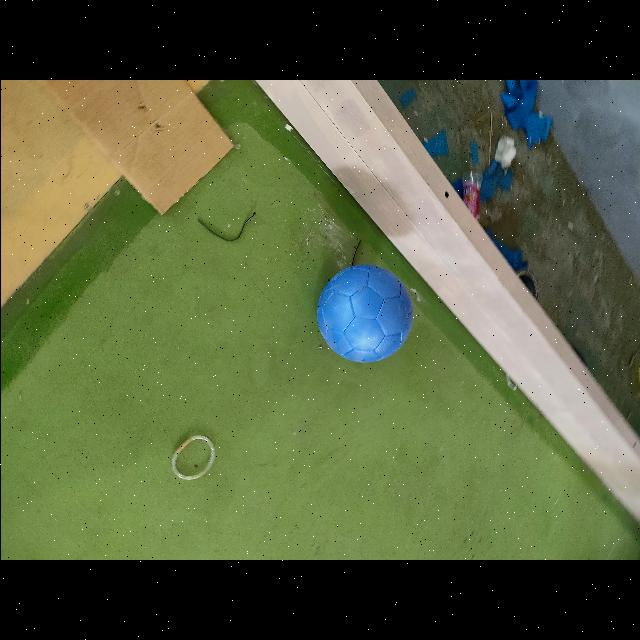B: (318, 264, 412, 362)
